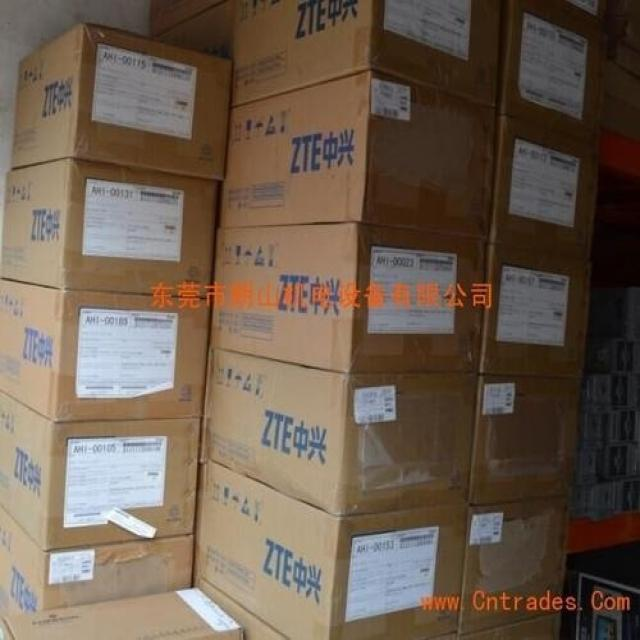box: (193, 458, 467, 640), (216, 68, 497, 242), (200, 347, 477, 516), (207, 222, 486, 373), (151, 0, 502, 109), (10, 22, 233, 180), (0, 391, 202, 552), (0, 159, 219, 299), (0, 278, 211, 423), (0, 506, 195, 618), (485, 115, 600, 264), (456, 493, 573, 636), (476, 243, 591, 380), (497, 0, 603, 144), (468, 374, 581, 504), (0, 587, 244, 639), (193, 574, 288, 640), (502, 0, 608, 43), (456, 611, 562, 640), (151, 0, 228, 38), (422, 633, 456, 640)
